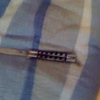knife: (1, 47, 76, 62)
